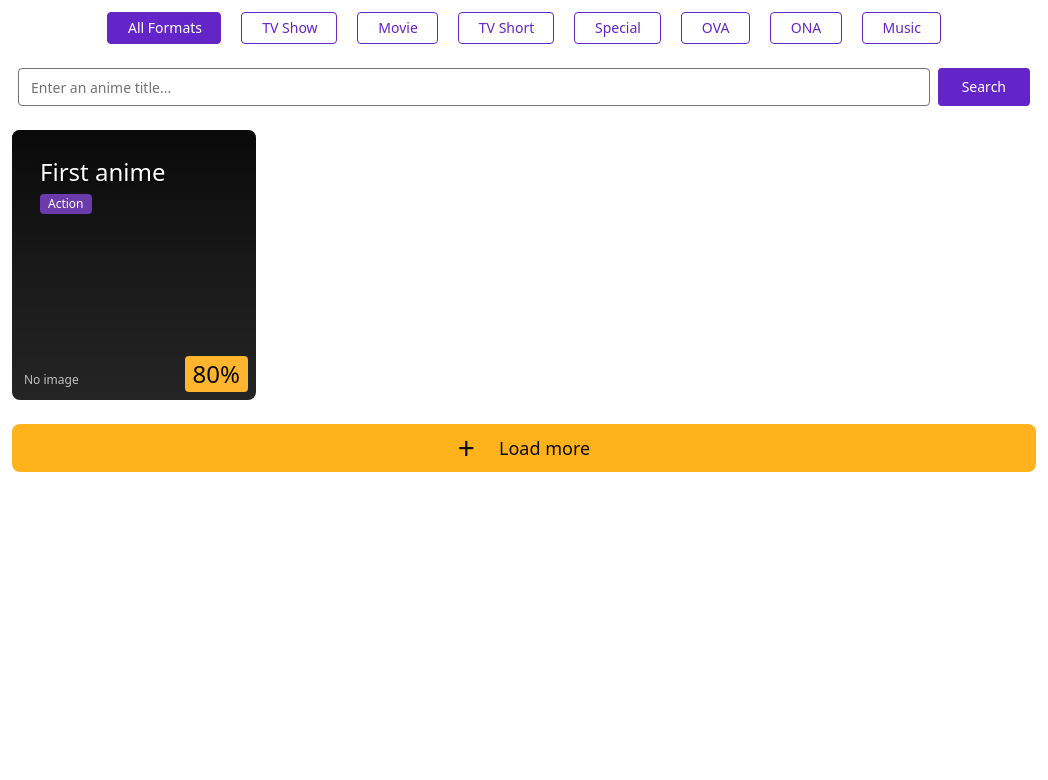
Test: preserves loaded cards and retries only the failed next page
Expected: the heading "First anime" is shown, [40, 155, 165, 188]
Click the button "+ Load more".
click(524, 448)  # box [12, 424, 1036, 472]
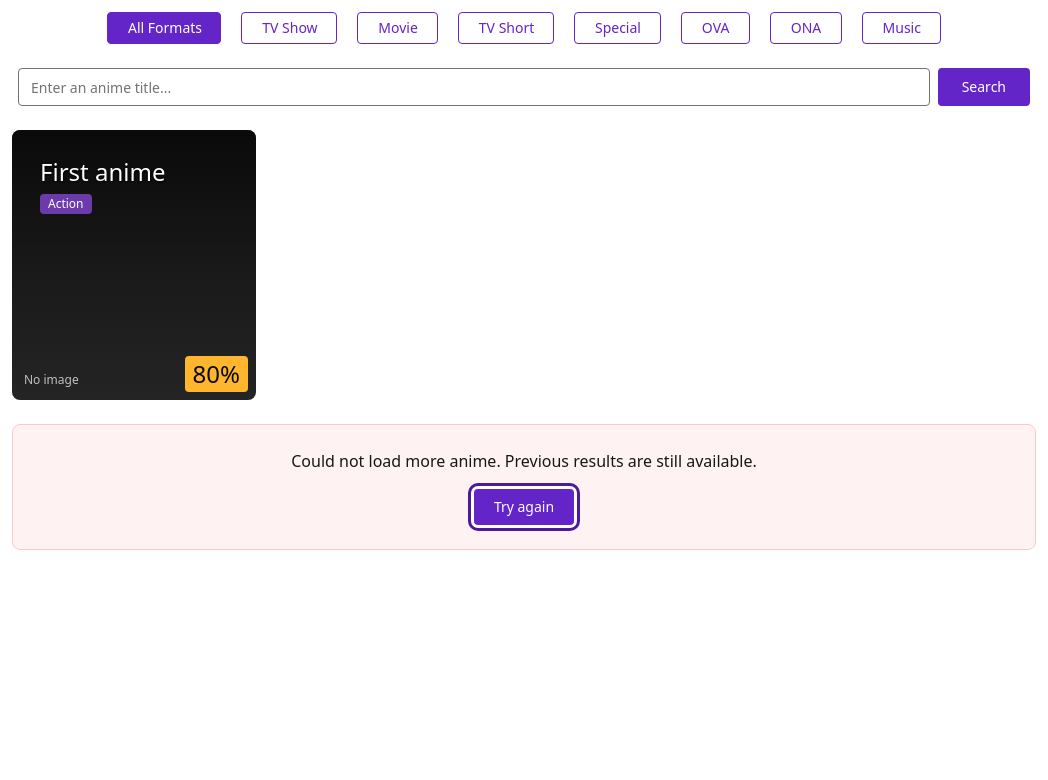
Expected: the heading "First anime" is shown, [40, 155, 165, 188]
Expected: the message shows "Previous results", [291, 450, 757, 472]
Click the button "Try again".
click(524, 507)  # box [474, 489, 574, 525]
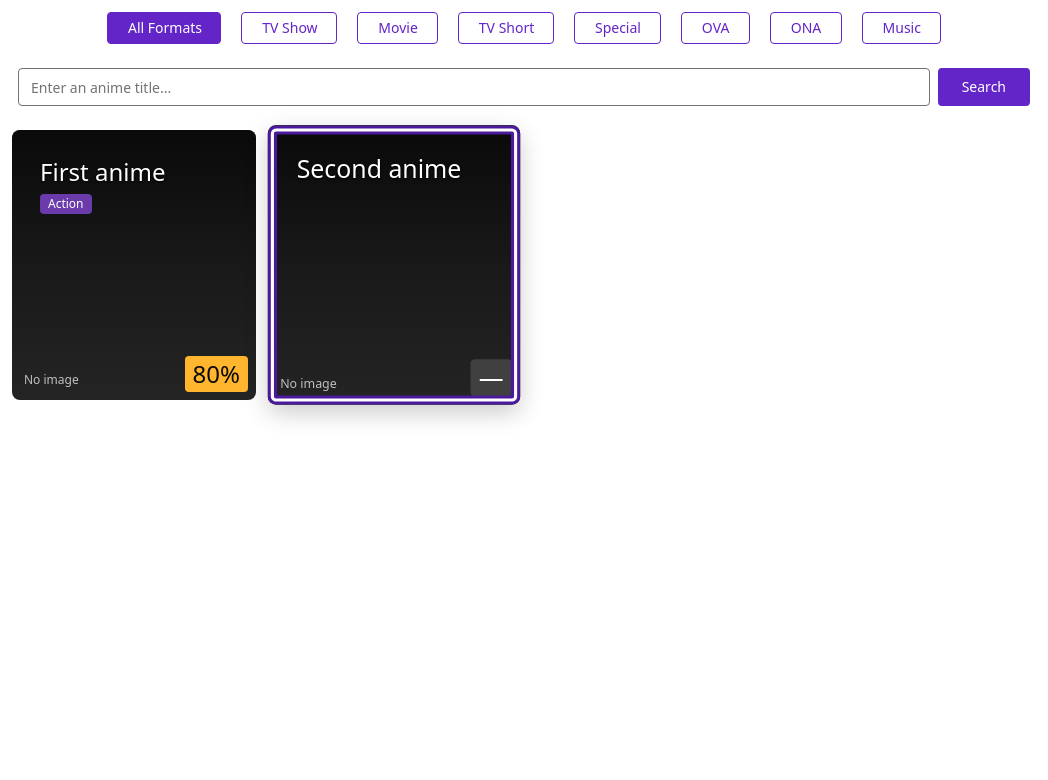
Expected: the heading "Second anime" is shown, [297, 151, 461, 185]
